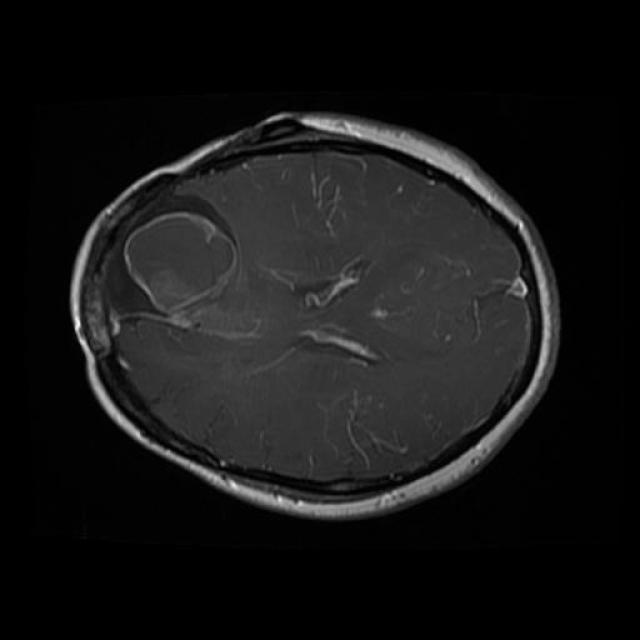Glioma: (108, 196, 239, 328)
